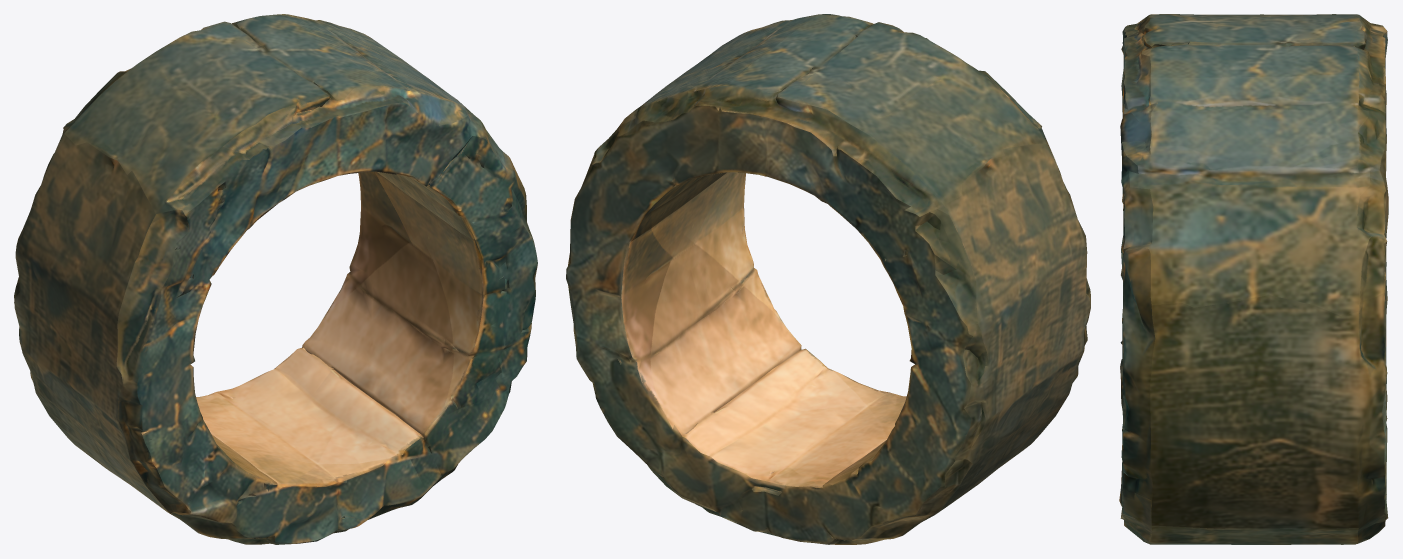
The model's file is moon-gate-aholo-8391649.glb.
3 views of the same model, side by side, from view 1: azimuth 30°, elevation 25°; view 2: azimuth 150°, elevation 25°; view 3: azimuth 270°, elevation 25° (orthographic). The views are drawn at different scales.
Parts seen in each view (by area): view 1: Game-space fit; view 2: Game-space fit; view 3: Game-space fit.
Boxes of the visible parts, left/top/right/bottom form: Game-space fit: left=14, top=14, right=537, bottom=544; Game-space fit: left=566, top=14, right=1090, bottom=544; Game-space fit: left=1119, top=14, right=1388, bottom=544.
Bounding box in the file's own units: 2.1 × 2.14 × 1.1.
1 material, 1 textured.
